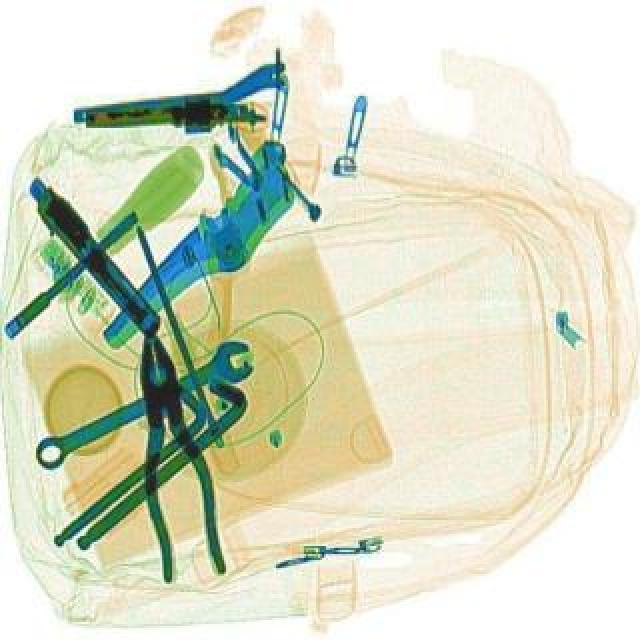gun: (18, 170, 178, 338), (76, 58, 290, 134)
scissors: (26, 330, 266, 474)
wrench: (122, 324, 232, 586)
